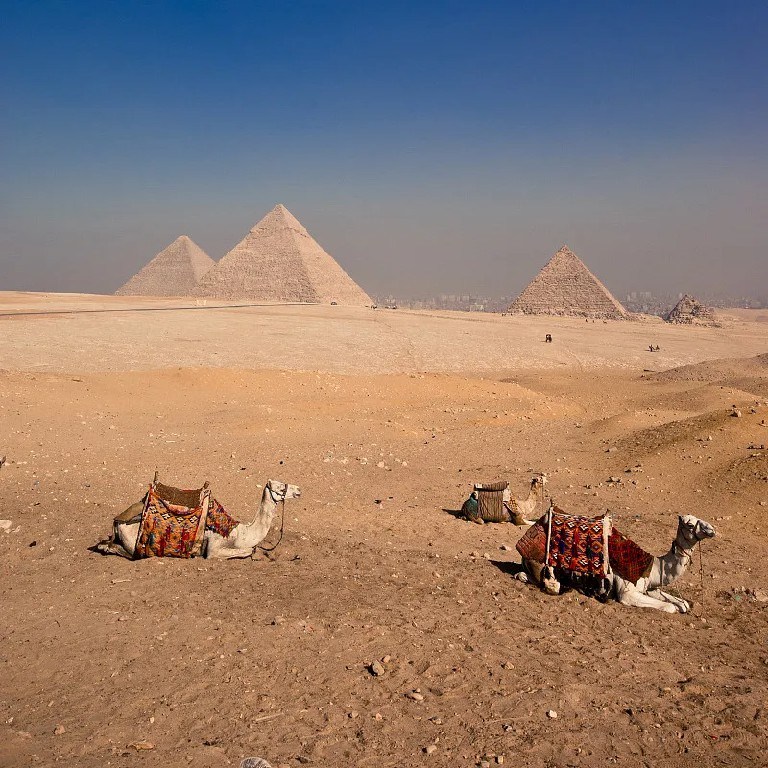Pyramid: (187, 204, 374, 305), (506, 244, 627, 316), (112, 236, 214, 294), (667, 295, 719, 326)
